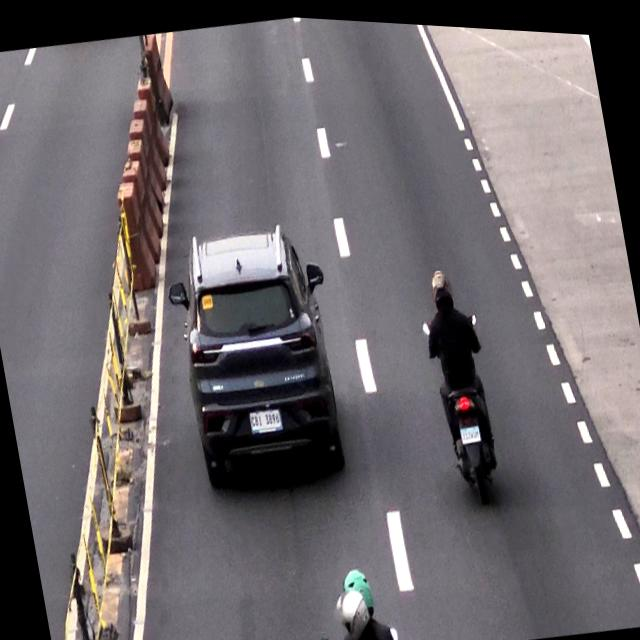Car: (163, 214, 343, 486)
License-Plate: (248, 403, 280, 430), (458, 415, 482, 442)
Motorcycle: (414, 258, 506, 507)
